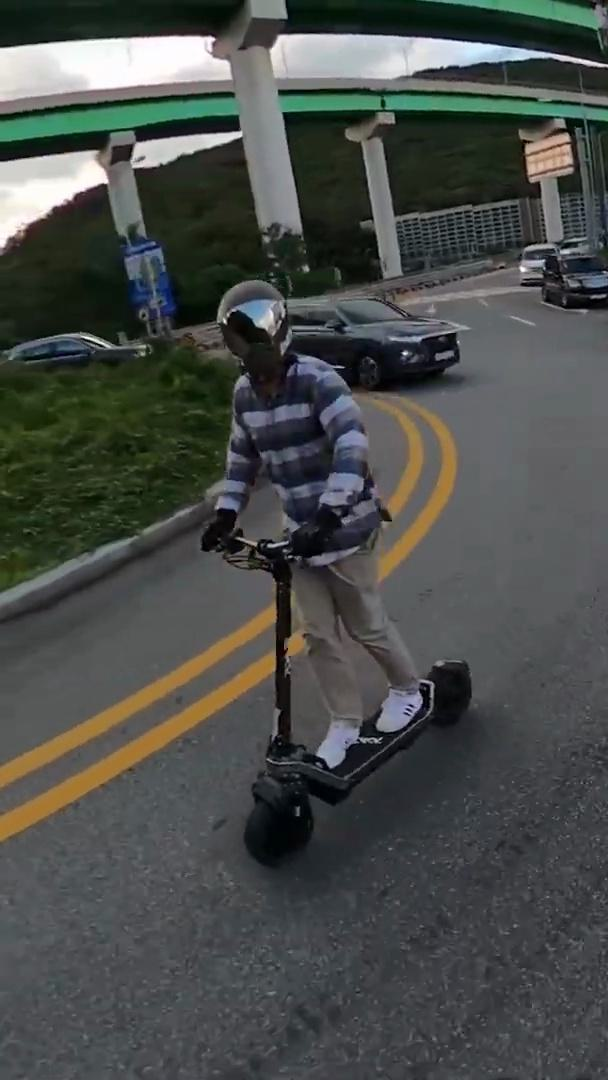helmet: (197, 271, 479, 868)
